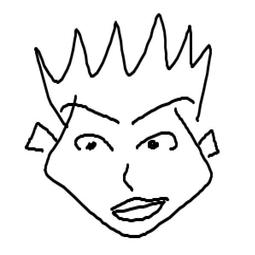eye: (133, 130, 180, 154), (73, 132, 116, 153)
frowning_eyebrow: (124, 93, 197, 127), (57, 100, 121, 127)
open_mouth: (112, 188, 169, 229)
pointy_nose: (116, 164, 138, 192)
